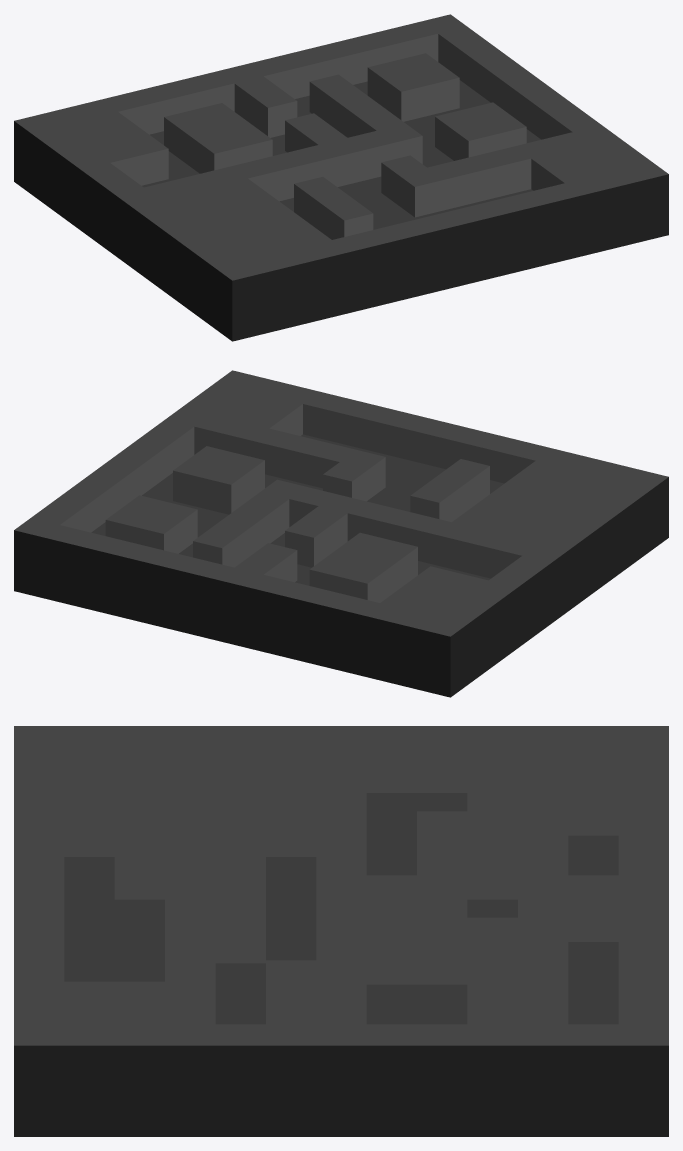
File: LevelReady.fbx
The picture shows the model from 3 angles, top to bottom: view 1: azimuth 30°, elevation 25°; view 2: azimuth 150°, elevation 25°; view 3: azimuth 270°, elevation 25°; orthographic projection. The views are drawn at different scales.
Visible parts, largest first — view 1: Level; view 2: Level; view 3: Level.
Boxes of the visible parts, <box> form: Level: <box>14,14,668,341</box>; Level: <box>14,370,668,697</box>; Level: <box>14,726,668,1136</box>.
Size of the model in its own units: 15 by 13 by 2.
Materials: 1 (1 with a texture image).
